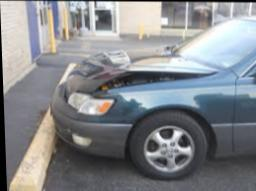Bonnet: (65, 51, 221, 97)
Light: (62, 91, 116, 116)
